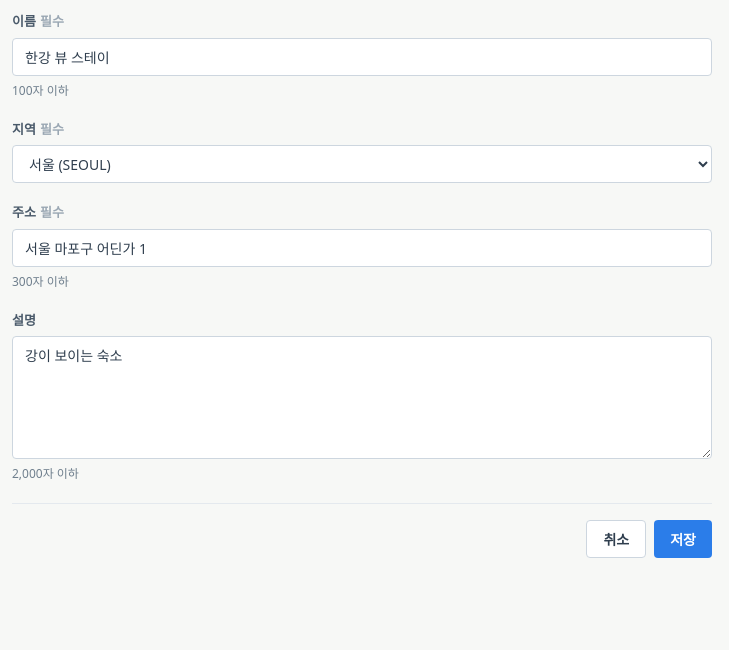
Test: 수정 본문. version 숨김 보관, 바뀐 필드만 › 바뀐 것이 없으면 보내지 않고 문구를 낸다
The width and height of the screenshot is (729, 650).
Click the button "저장": click(683, 539) left=654, top=520, right=712, bottom=558
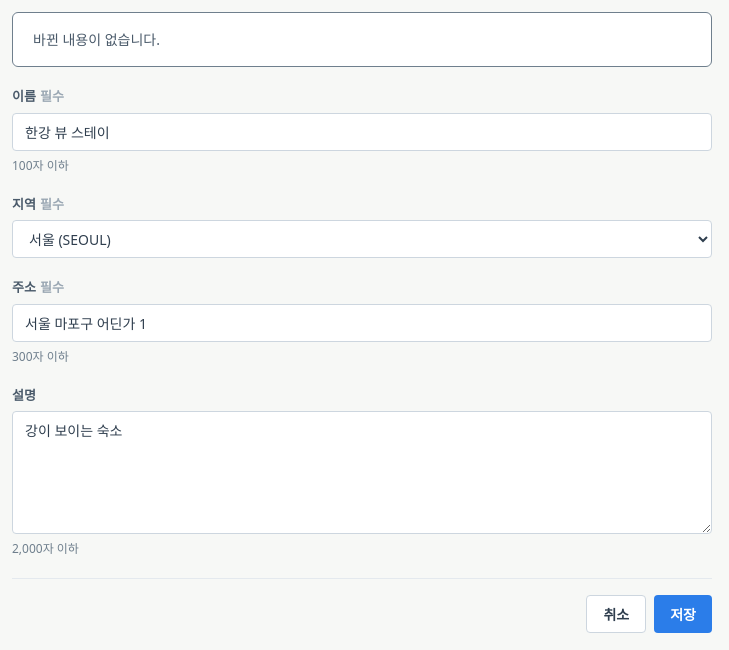
Result: the text "바뀐 내용이 없습니다." is shown at left=33, top=30, right=160, bottom=49
